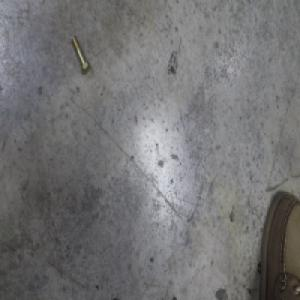Bolt: (69, 34, 89, 77)
